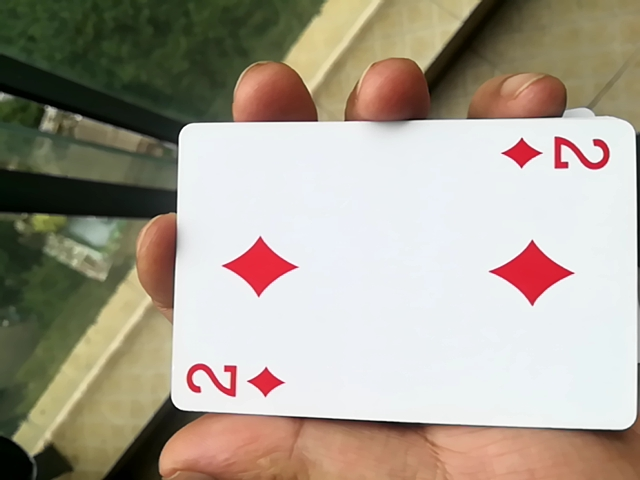fk 2: (167, 117, 637, 439)
